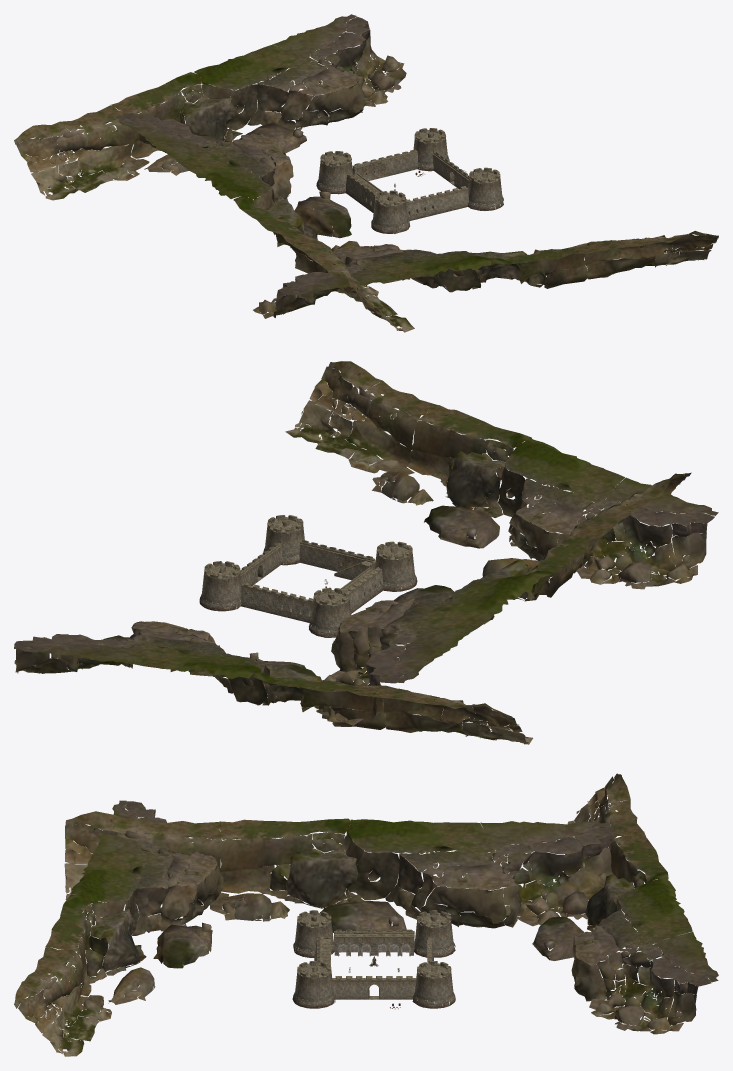
File: western-fort-quest.glb
3 views of the same model, one above another, from view 1: azimuth 30°, elevation 25°; view 2: azimuth 150°, elevation 25°; view 3: azimuth 270°, elevation 25° (orthographic). The views are drawn at different scales.
Parts seen in each view (by area): view 1: western-fort-quest / coastal_cliff_04, western-fort-quest / modular_fort_01_wall_1; view 2: western-fort-quest / coastal_cliff_04, western-fort-quest / modular_fort_01_wall_1; view 3: western-fort-quest / coastal_cliff_04, western-fort-quest / modular_fort_01_wall_1, western-fort-quest / modular_fort_01_wall_1.001.
Boxes of the visible parts, left/top/right/bottom form: western-fort-quest / coastal_cliff_04: left=14, top=14, right=718, bottom=332; western-fort-quest / modular_fort_01_wall_1: left=316, top=128, right=503, bottom=233; western-fort-quest / coastal_cliff_04: left=14, top=361, right=718, bottom=744; western-fort-quest / modular_fort_01_wall_1: left=199, top=515, right=417, bottom=637; western-fort-quest / coastal_cliff_04: left=14, top=773, right=718, bottom=1056; western-fort-quest / modular_fort_01_wall_1: left=292, top=910, right=455, bottom=1008; western-fort-quest / modular_fort_01_wall_1.001: left=334, top=934, right=413, bottom=956.
Bounding box in the file's own units: 206 × 26.35 × 259.
11 materials, 11 textured.
